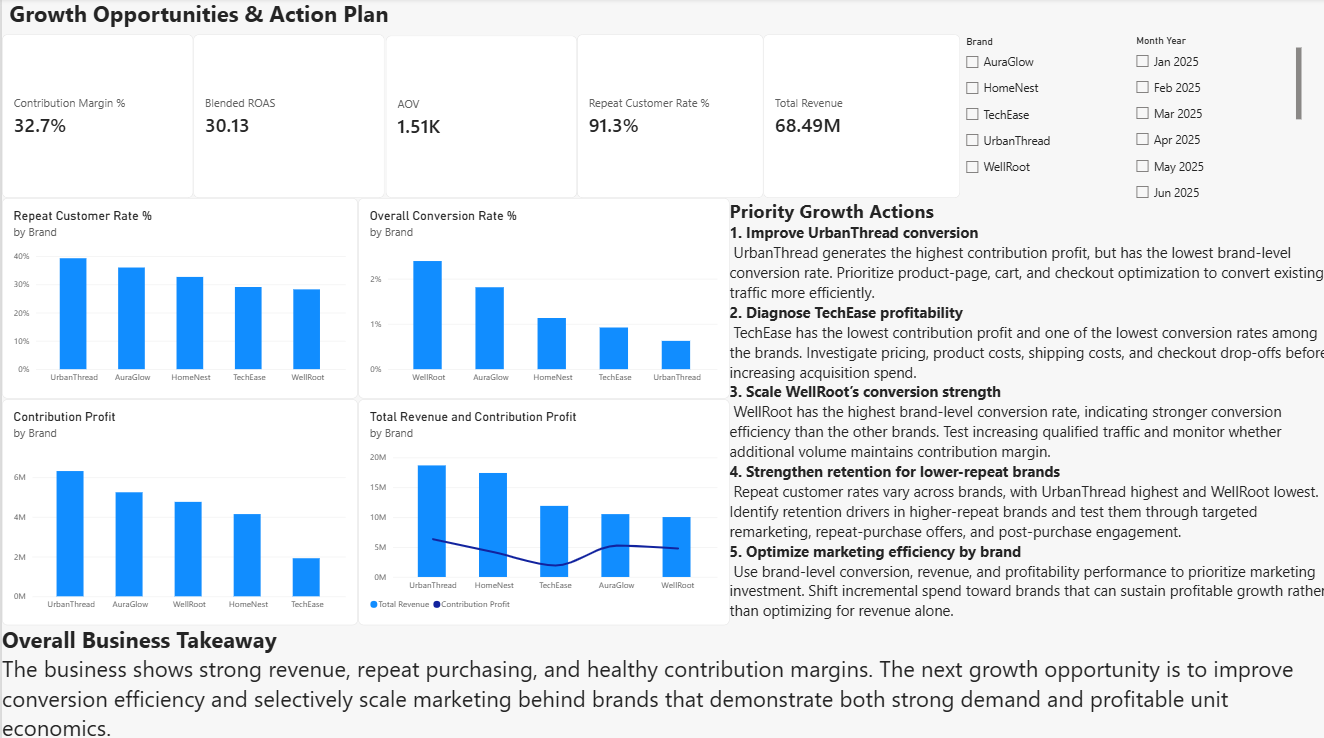

Layout of this report page (visuals, bound fields, positions):
{"tool":"powerbi","page":{"name":"Growth Opportunities","canvas":[1920,1080],"ordinal":4},"visuals":[{"type":"textbox","box":[10,0,577.5,52.5],"z":0},{"type":"cardVisual","fields":{"Data":["orders.Contribution Margin %"]},"box":[0,52.5,277.5,237.5],"z":1},{"type":"cardVisual","fields":{"Data":["marketing.Blended ROAS"]},"box":[277.5,52.5,277.5,237.5],"z":2},{"type":"cardVisual","fields":{"Data":["orders.AOV"]},"box":[555,55,277.5,235],"z":3},{"type":"cardVisual","fields":{"Data":["orders.Repeat Customer Rate %"]},"box":[832.5,52.5,270,237.5],"z":4},{"type":"cardVisual","fields":{"Data":["orders.Total Revenue"]},"box":[1102.5,52.5,285,237.5],"z":5},{"type":"clusteredColumnChart","fields":{"Category":["BrandTable.Brand"],"Y":["orders.Contribution Profit"]},"box":[0,580,515,327.5],"z":6},{"type":"clusteredColumnChart","fields":{"Category":["BrandTable.Brand"],"Y":["orders.Repeat Customer Rate %"]},"box":[0,290,515,290],"z":7},{"type":"clusteredColumnChart","fields":{"Category":["BrandTable.Brand"],"Y":["website_funnel.Overall Conversion Rate %"]},"box":[515,290,537.5,290],"z":8},{"type":"lineClusteredColumnComboChart","fields":{"Category":["BrandTable.Brand"],"Y":["orders.Total Revenue"],"Y2":["orders.Contribution Profit"]},"box":[515,580,537.5,327.5],"z":9},{"type":"slicer","fields":{"Values":["BrandTable.Brand"]},"box":[1387.5,55,247.5,235],"z":10},{"type":"slicer","fields":{"Values":["DateTable.Month Year"]},"box":[1635,52.5,247.5,237.5],"z":11},{"type":"textbox","box":[1052.5,290,867.5,617.5],"z":12},{"type":"textbox","box":[0,907.5,1920,172.5],"z":13}]}

Visuals, with their boxes in screenshot pixels (x1, y1, x2, y2), scaled from the page's 1920x1080 canvas onto the 1324x738 screenshot:
textbox: 7, 0, 405, 36
cardVisual - orders.Contribution Margin %: 0, 36, 191, 198
cardVisual - marketing.Blended ROAS: 191, 36, 383, 198
cardVisual - orders.AOV: 383, 38, 574, 198
cardVisual - orders.Repeat Customer Rate %: 574, 36, 760, 198
cardVisual - orders.Total Revenue: 760, 36, 957, 198
clusteredColumnChart - BrandTable.Brand x orders.Contribution Profit: 0, 396, 355, 620
clusteredColumnChart - BrandTable.Brand x orders.Repeat Customer Rate %: 0, 198, 355, 396
clusteredColumnChart - BrandTable.Brand x website_funnel.Overall Conversion Rate %: 355, 198, 726, 396
lineClusteredColumnComboChart - BrandTable.Brand x orders.Total Revenue: 355, 396, 726, 620
slicer - BrandTable.Brand: 957, 38, 1127, 198
slicer - DateTable.Month Year: 1127, 36, 1298, 198
textbox: 726, 198, 1323, 620
textbox: 0, 620, 1323, 737
